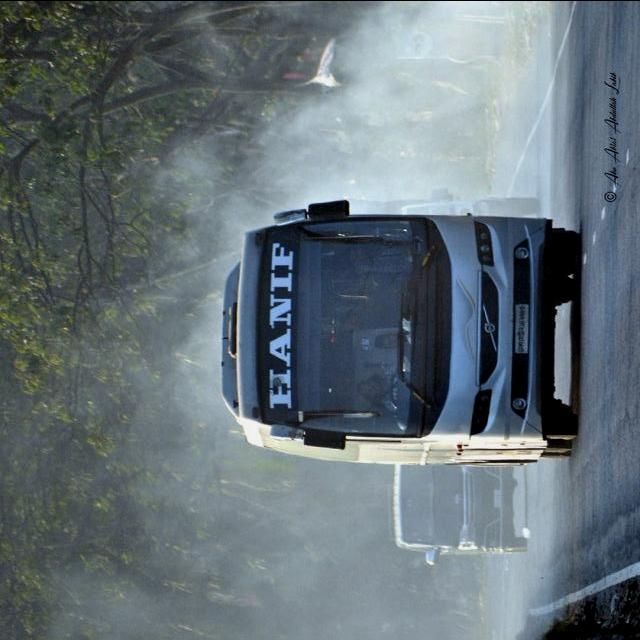bus: (220, 200, 580, 469)
